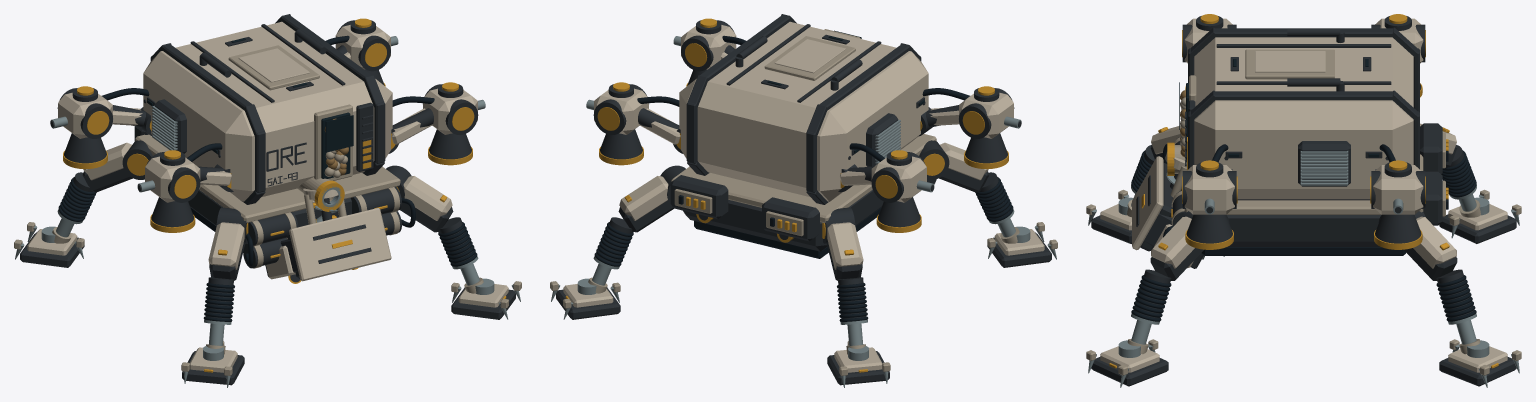
Rendered from sai93_unit_d0_lod0.glb.
3 views of the same model, side by side, from view 1: azimuth 30°, elevation 25°; view 2: azimuth 150°, elevation 25°; view 3: azimuth 270°, elevation 25° (orthographic). The views are drawn at different scales.
Parts seen in each view (by area): view 1: BODY_ORE_TANK_SURFACE, MINING_FRAME, THRUSTER_FL_SURFACE, THRUSTER_RL_SURFACE, THRUSTER_FR_SURFACE, THRUSTER_RR_SURFACE, LEG_FL_UPPER, LEG_FR_UPPER, LEG_RL_UPPER, LEG_FL_FOOT_SURFACE, LEG_FR_FOOT_SURFACE, LEG_RL_FOOT_SURFACE (+10 smaller); view 2: BODY_ORE_TANK_SURFACE, THRUSTER_RL_SURFACE, THRUSTER_FL_SURFACE, THRUSTER_RR_SURFACE, THRUSTER_FR_SURFACE, LEG_RR_UPPER, LEG_RL_UPPER, LEG_FL_UPPER, LEG_RL_FOOT_SURFACE, LEG_RR_FOOT_SURFACE, LEG_FL_FOOT_SURFACE, LEG_RR_SHOCK_BARREL (+5 smaller); view 3: BODY_ORE_TANK_SURFACE, THRUSTER_FR_SURFACE, THRUSTER_RR_SURFACE, MINING_FRAME, LEG_FR_FOOT_SURFACE, LEG_RR_FOOT_SURFACE, LEG_FR_UPPER, LEG_RR_UPPER, LEG_RL_FOOT_SURFACE, LEG_FR_SHOCK_BARREL, LEG_RR_SHOCK_BARREL, LEG_RL_SHOCK_BARREL (+12 smaller).
Part boxes in pixels (<box>): BODY_ORE_TANK_SURFACE: <box>134,14,415,268</box>; MINING_FRAME: <box>265,208,391,281</box>; THRUSTER_FL_SURFACE: <box>137,150,200,232</box>; THRUSTER_RL_SURFACE: <box>50,86,112,169</box>; THRUSTER_FR_SURFACE: <box>423,82,485,165</box>; THRUSTER_RR_SURFACE: <box>335,18,398,86</box>; LEG_FL_UPPER: <box>208,207,248,280</box>; LEG_FR_UPPER: <box>386,165,453,232</box>; LEG_RL_UPPER: <box>82,140,152,192</box>; LEG_FL_FOOT_SURFACE: <box>182,346,244,385</box>; LEG_FR_FOOT_SURFACE: <box>451,278,515,319</box>; LEG_RL_FOOT_SURFACE: <box>20,226,84,267</box>; BODY_ORE_TANK_SURFACE: <box>670,14,936,258</box>; THRUSTER_RL_SURFACE: <box>871,150,934,232</box>; THRUSTER_FL_SURFACE: <box>959,86,1021,169</box>; THRUSTER_RR_SURFACE: <box>586,82,648,165</box>; THRUSTER_FR_SURFACE: <box>673,18,736,86</box>; LEG_RR_UPPER: <box>618,165,685,232</box>; LEG_RL_UPPER: <box>822,207,863,280</box>; LEG_FL_UPPER: <box>919,140,989,192</box>; LEG_RL_FOOT_SURFACE: <box>827,346,889,385</box>; LEG_RR_FOOT_SURFACE: <box>556,278,620,319</box>; LEG_FL_FOOT_SURFACE: <box>987,226,1051,267</box>; LEG_RR_SHOCK_BARREL: <box>593,217,633,269</box>; BODY_ORE_TANK_SURFACE: <box>1162,27,1448,255</box>; THRUSTER_FR_SURFACE: <box>1182,160,1237,249</box>; THRUSTER_RR_SURFACE: <box>1370,160,1425,249</box>; MINING_FRAME: <box>1132,156,1203,268</box>; LEG_FR_FOOT_SURFACE: <box>1091,340,1168,386</box>; LEG_RR_FOOT_SURFACE: <box>1439,340,1516,386</box>; LEG_FR_UPPER: <box>1150,211,1229,280</box>; LEG_RR_UPPER: <box>1378,211,1457,280</box>; LEG_RL_FOOT_SURFACE: <box>1439,197,1516,243</box>; LEG_FR_SHOCK_BARREL: <box>1131,269,1171,324</box>; LEG_RR_SHOCK_BARREL: <box>1436,269,1476,324</box>; LEG_RL_SHOCK_BARREL: <box>1441,145,1476,199</box>.
Size of the model in its own units: 5.66 by 3.57 by 5.73.
